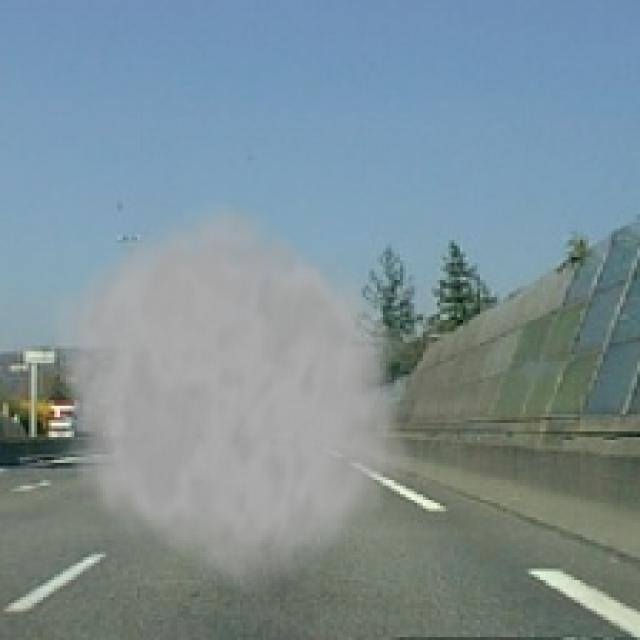smoke: (37, 191, 414, 603)
